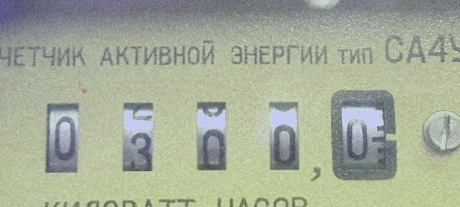0: (342, 114, 370, 163), (268, 121, 297, 168), (51, 111, 77, 163), (198, 124, 225, 172)
3: (125, 128, 153, 171)
screen: (23, 82, 405, 191)
